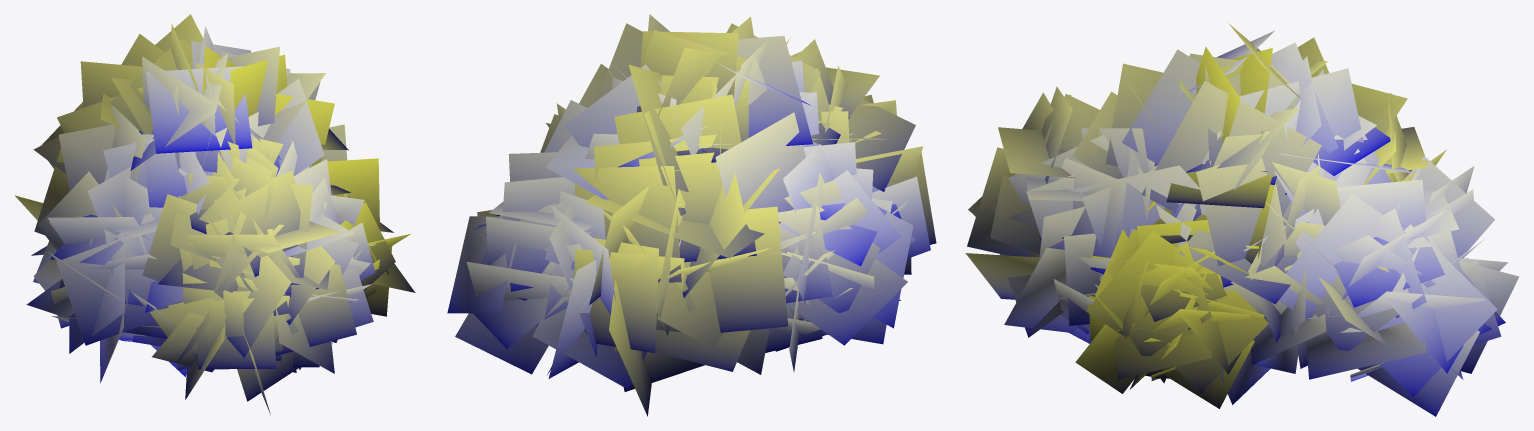
The model's file is bush-large-lod0.glb.
3 views of the same model, side by side, from view 1: azimuth 30°, elevation 25°; view 2: azimuth 150°, elevation 25°; view 3: azimuth 270°, elevation 25° (orthographic). The views are drawn at different scales.
Visible parts, largest first — view 1: Bush large LOD0; view 2: Bush large LOD0; view 3: Bush large LOD0.
Part boxes in pixels (x1,y1,x2,y2): Bush large LOD0: [15, 14, 415, 415]; Bush large LOD0: [447, 14, 936, 416]; Bush large LOD0: [965, 23, 1519, 416].
Size of the model in its own units: 2.4 by 2.01 by 3.09.
